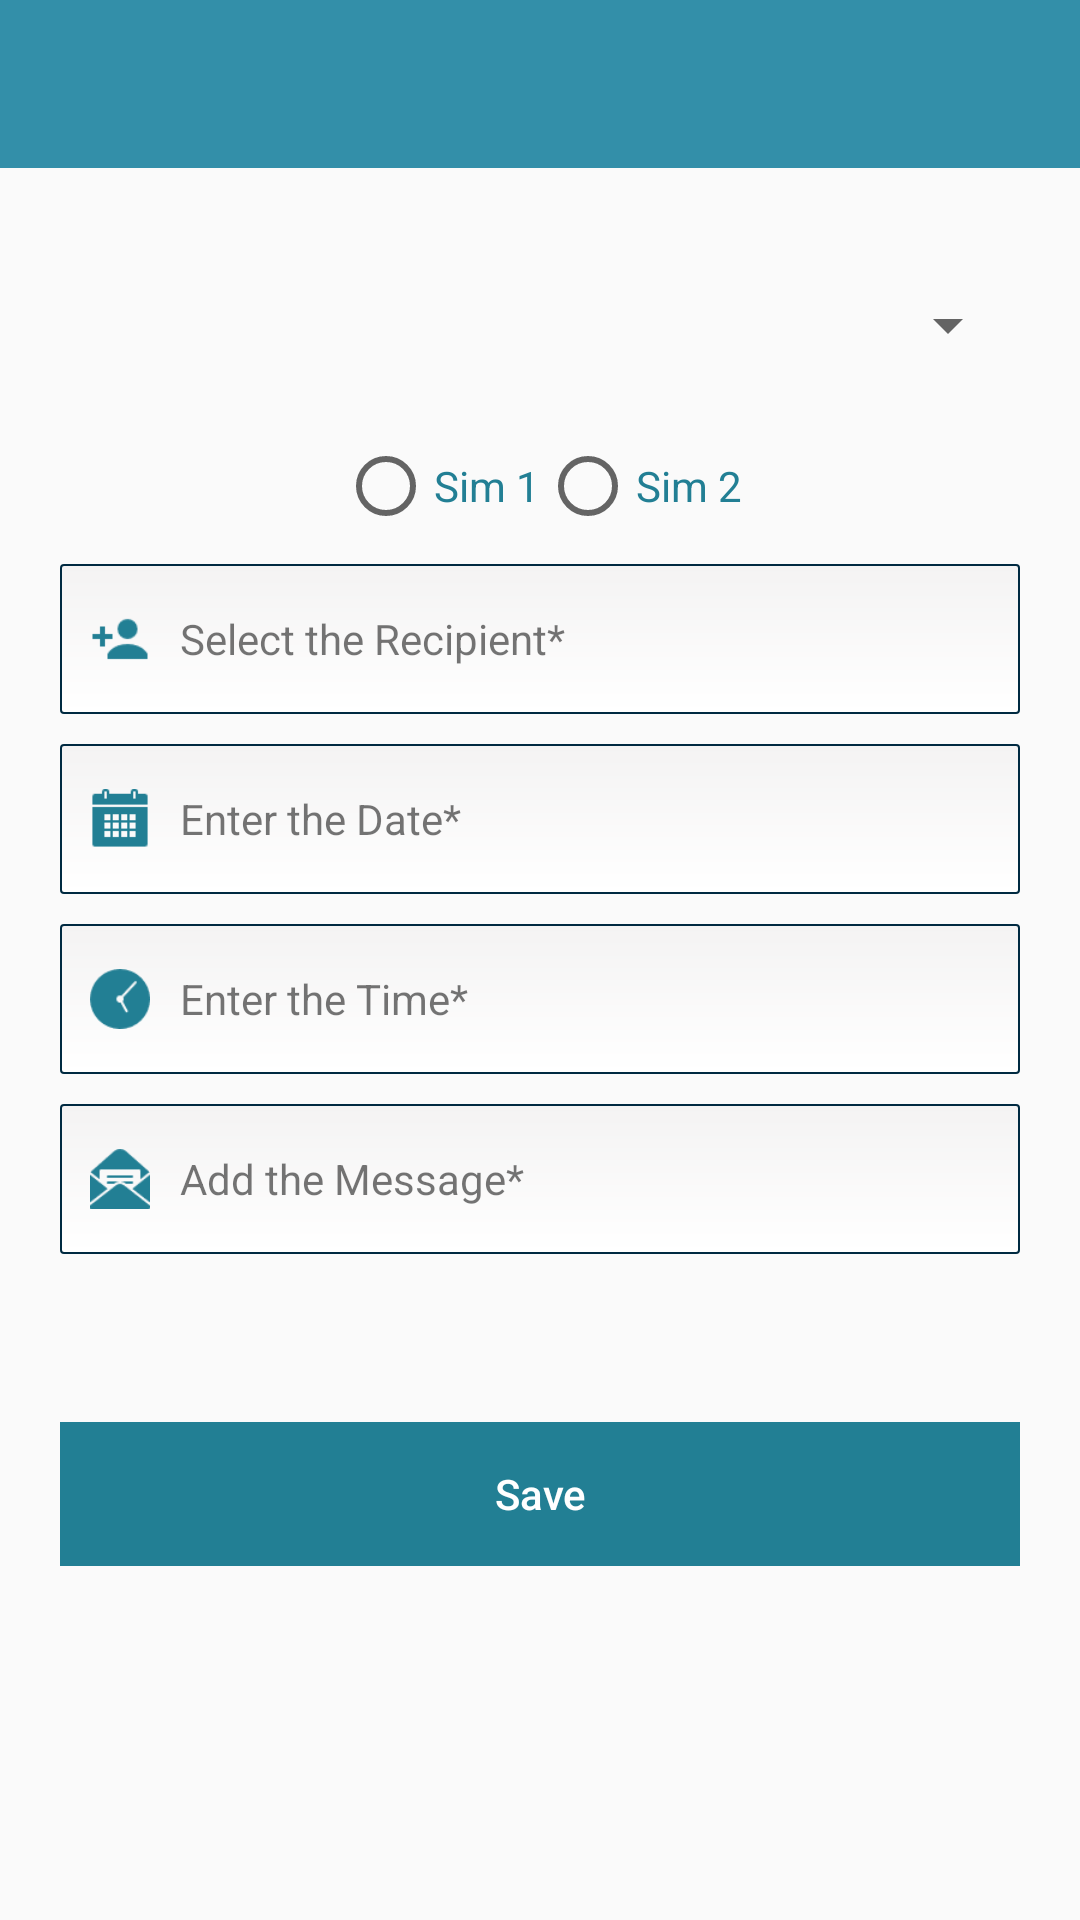

Named icons in this screenshot (1080 × 1920) and their bounding boxes, (x1, y1, x2, y2):
add calender: (92, 789, 148, 847)
add user: (92, 619, 148, 659)
add watch: (90, 969, 150, 1029)
